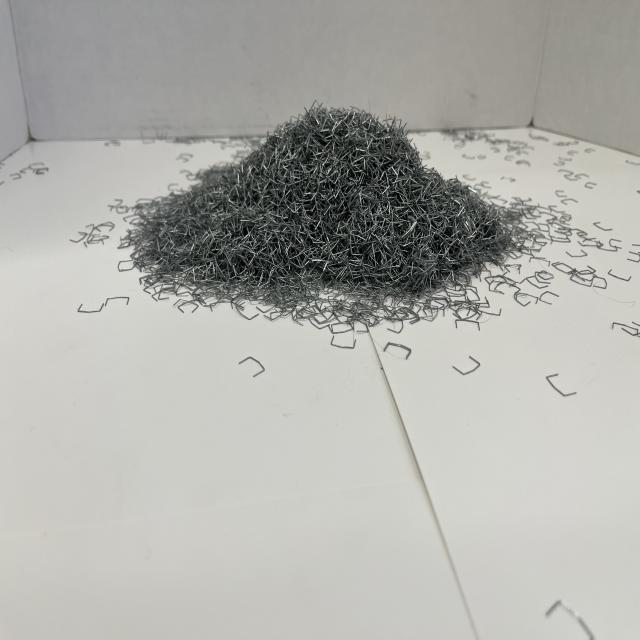staples: (117, 100, 516, 303)
